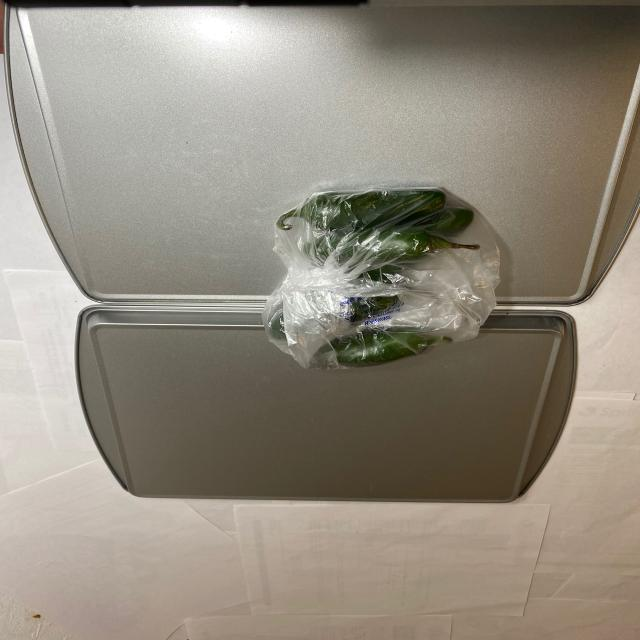chilli: (266, 178, 482, 373)
